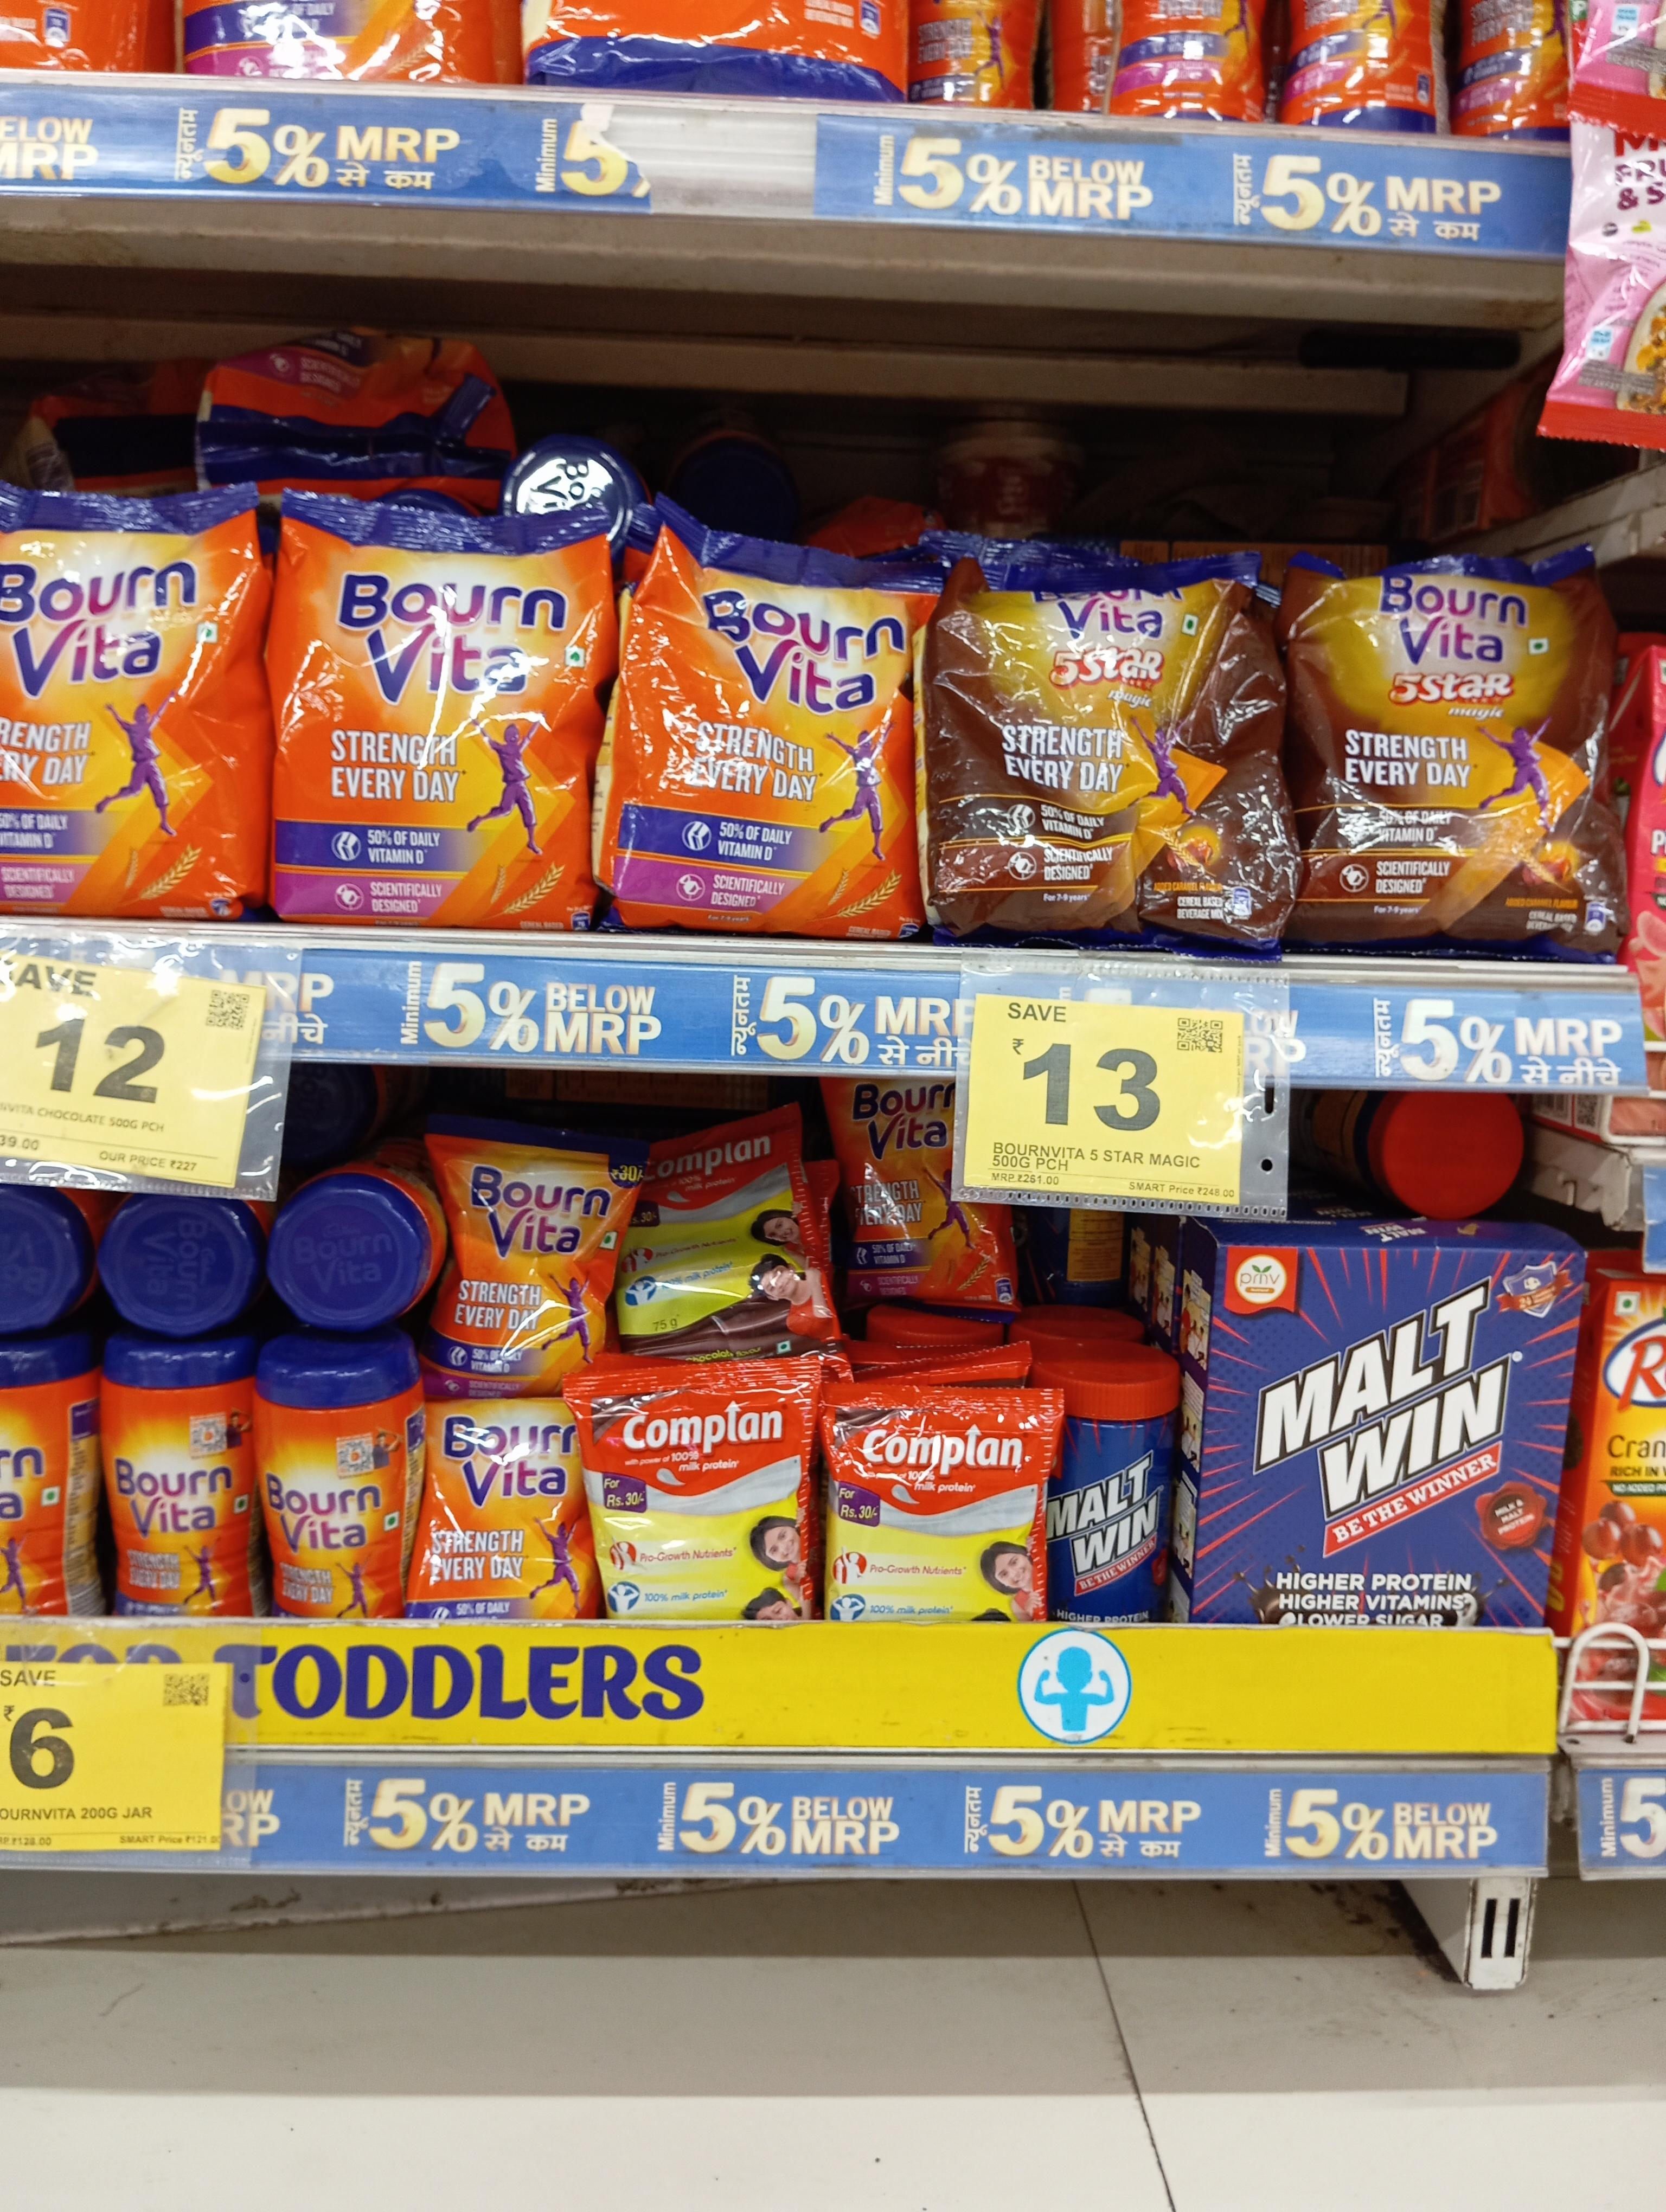BOURN_VITA_200_G_JAR: (103, 1336, 256, 1621), (262, 1345, 401, 1621)
BOURN_VITA_500_G_POUCH: (273, 491, 591, 920), (613, 502, 901, 930), (5, 470, 261, 918)
BOURN_VITA_75_G_POUCH: (431, 1126, 591, 1381), (415, 1394, 574, 1617)
BOURN_VITA_FIVE_STAR_MAGIC_500_G_POUCH: (922, 523, 1276, 948), (1288, 532, 1617, 956)
